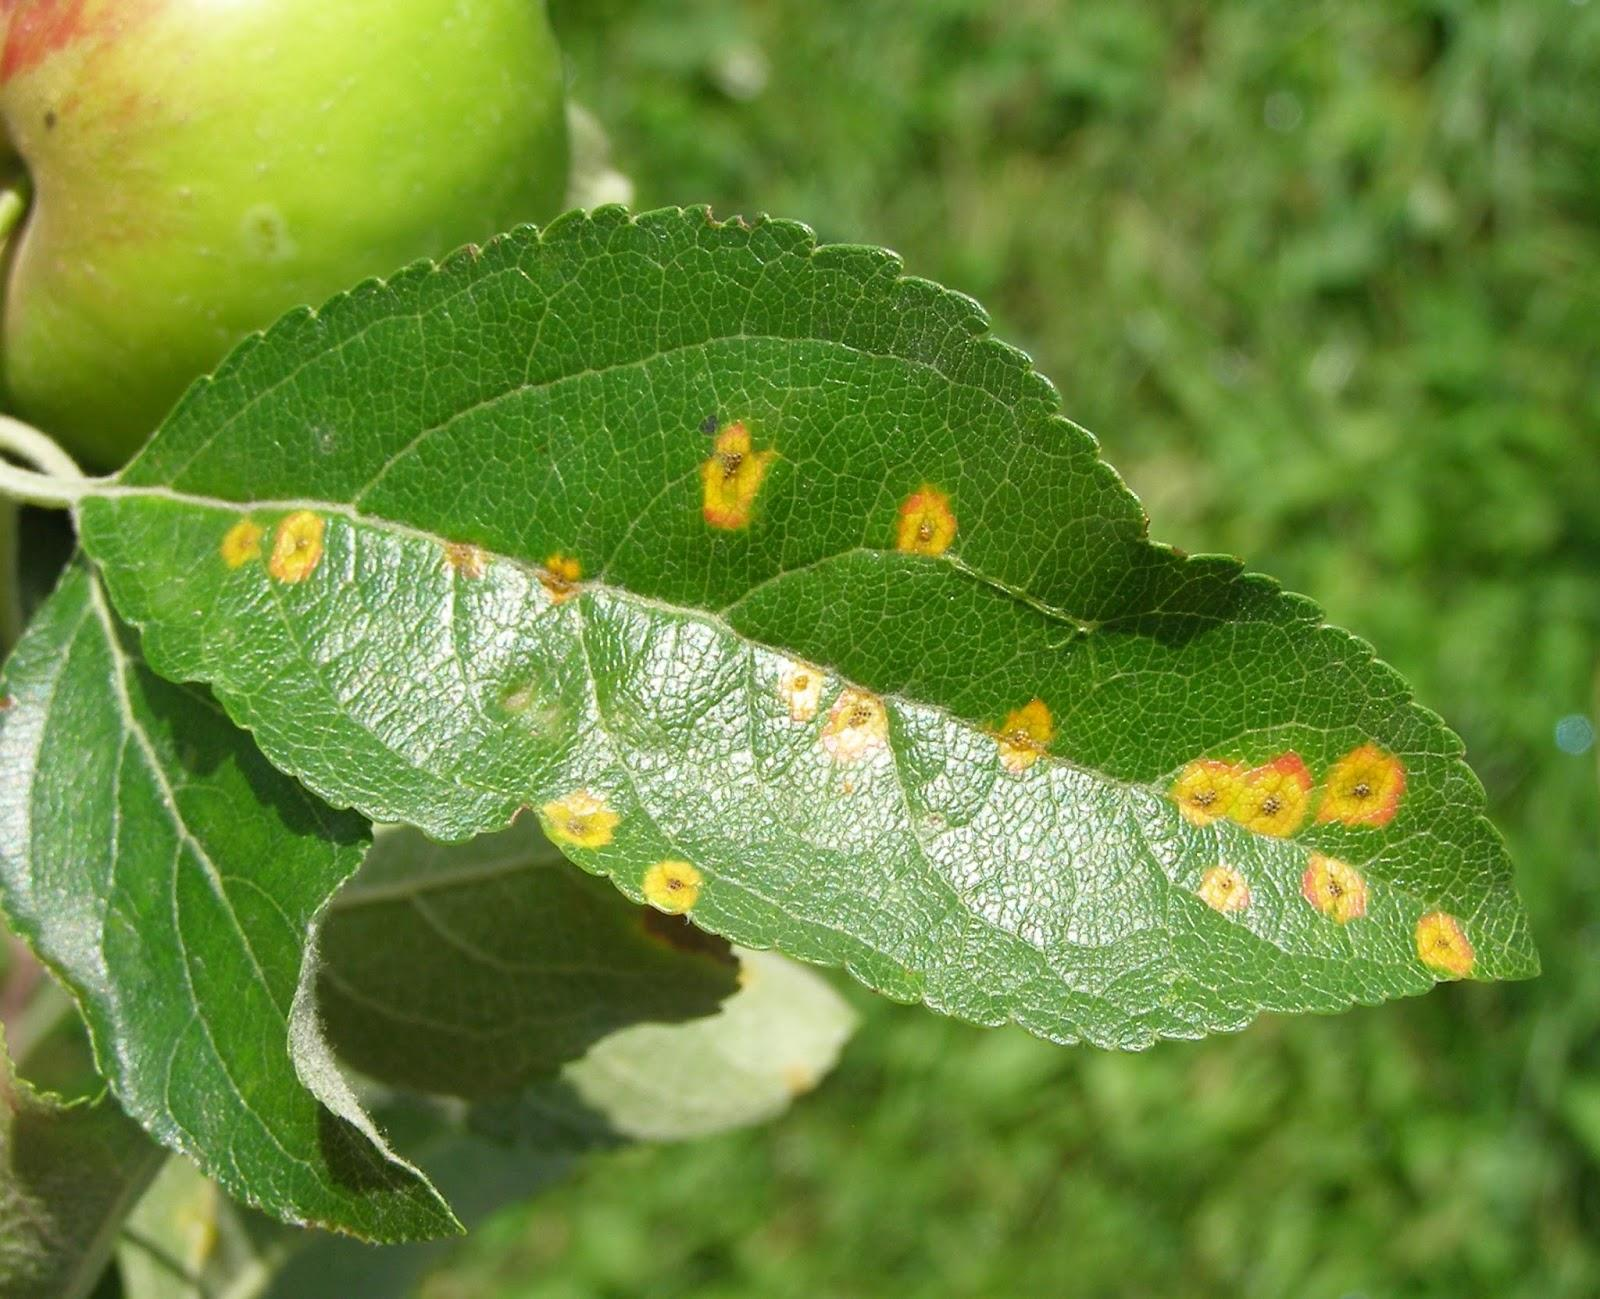Apple rust leaf: (86, 244, 1540, 1064)
